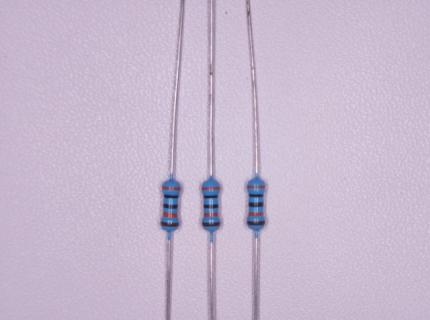Black band: (249, 202, 263, 207), (164, 195, 179, 199), (203, 204, 218, 208), (163, 204, 177, 208), (204, 195, 219, 198), (249, 194, 263, 197)
Brown band: (162, 221, 180, 226), (248, 220, 265, 225), (203, 222, 221, 226)
Orange band: (162, 186, 180, 191), (202, 186, 219, 191), (249, 212, 264, 216), (204, 213, 218, 217), (248, 185, 266, 188), (163, 213, 176, 217)
